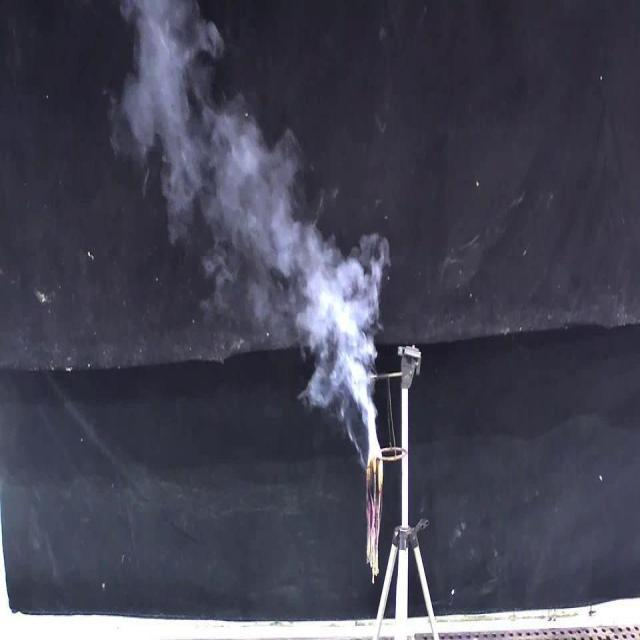Smoke: (122, 1, 390, 468)
